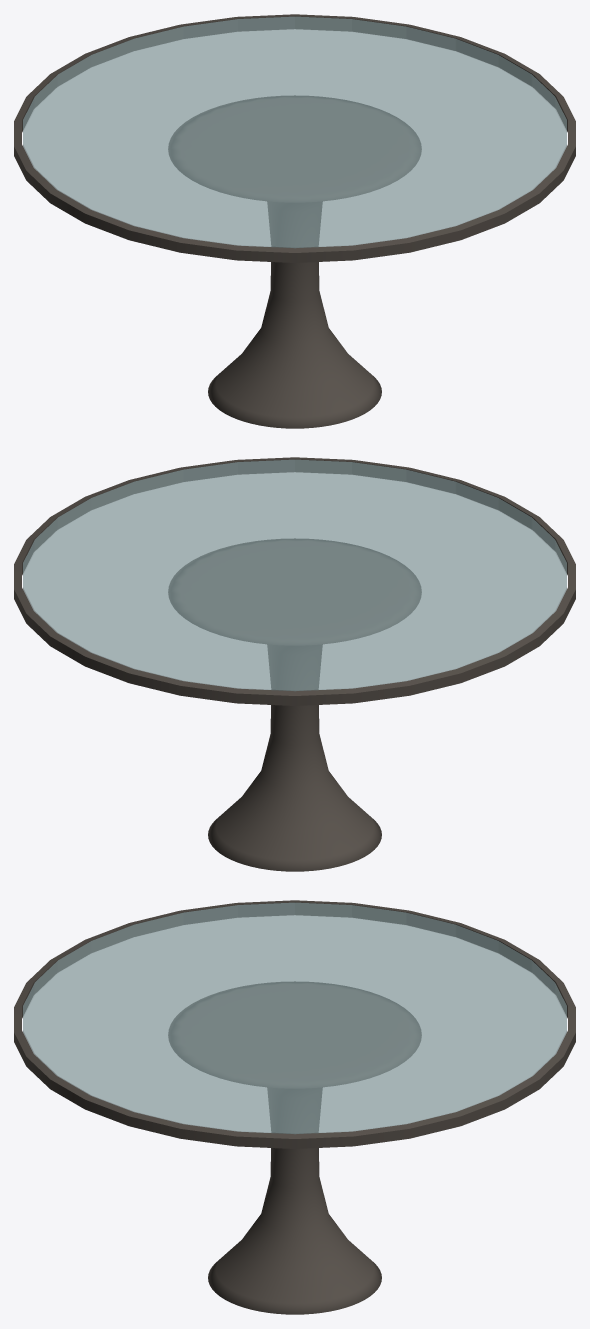
Rendered from Proto_GlassTable_01.fbx.
3 views of the same model, one above another, from view 1: azimuth 30°, elevation 25°; view 2: azimuth 150°, elevation 25°; view 3: azimuth 270°, elevation 25° (orthographic).
Parts seen in each view (by area): view 1: polySurface1175; view 2: polySurface1175; view 3: polySurface1175.
Boxes of the visible parts, x1,y1,x2,y2 form: polySurface1175: (14, 14, 575, 428); polySurface1175: (14, 457, 575, 871); polySurface1175: (14, 900, 575, 1314).
Size of the model in its own units: 17.45 by 8.89 by 17.35.
